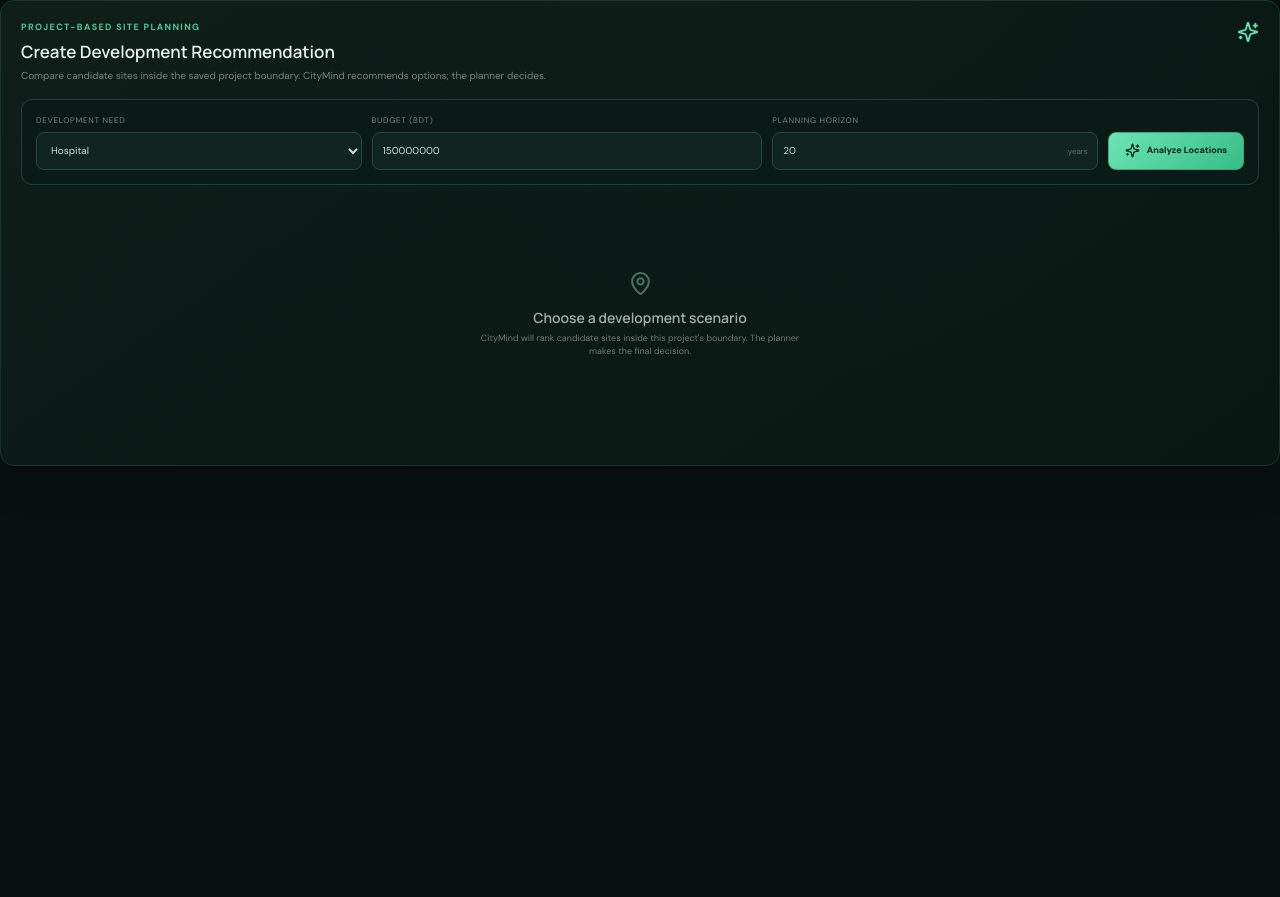
Test: SmartRecommendationEngine › uses the project-scoped API inside a planning workspace
The width and height of the screenshot is (1280, 897).
Click the button "Analyze Locations" at (1176, 150), box [1108,132,1244,170]
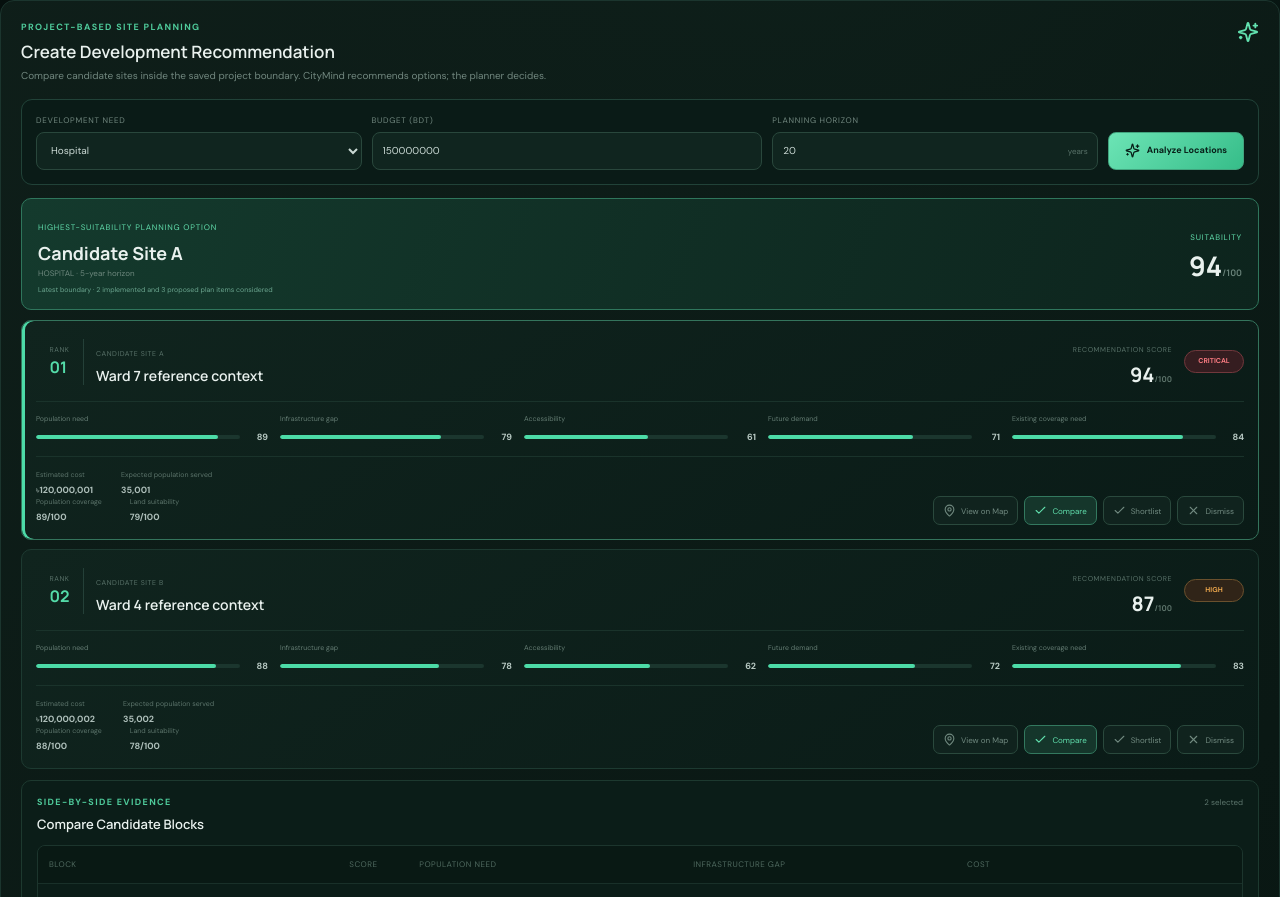
Expected: the text "2 implemented and 3 proposed plan items" is shown, [38,284,273,295]
